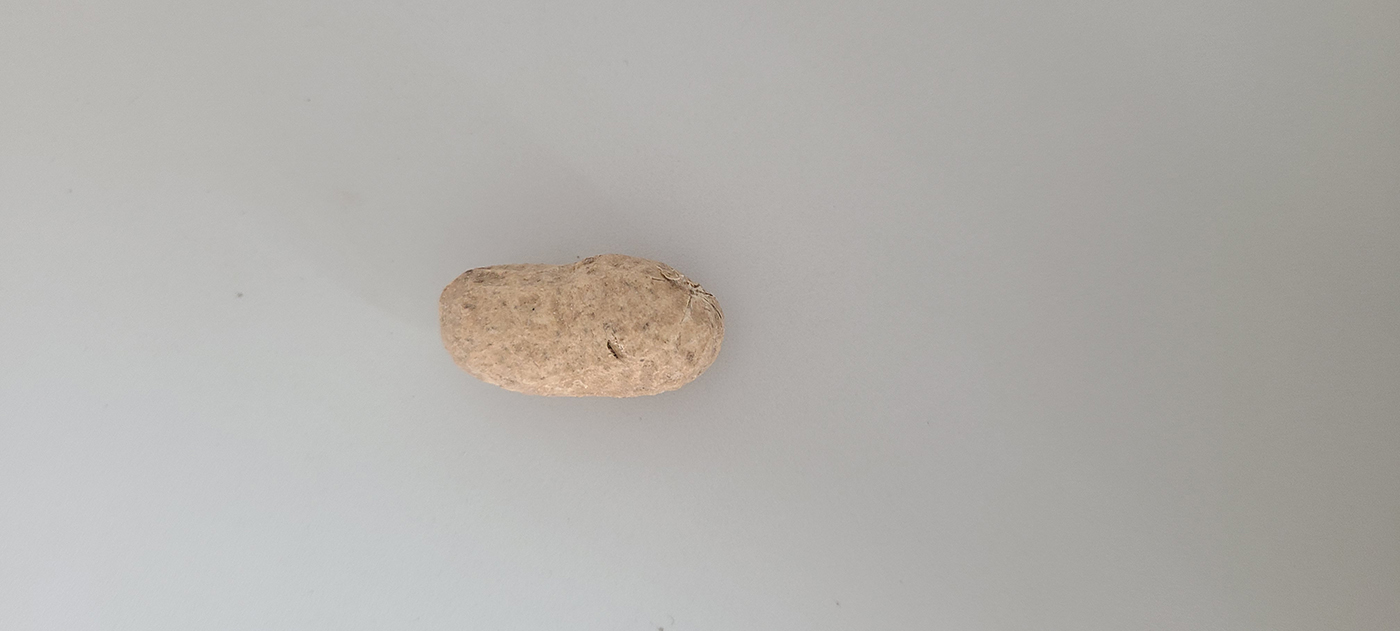h: (434, 250, 726, 401)
